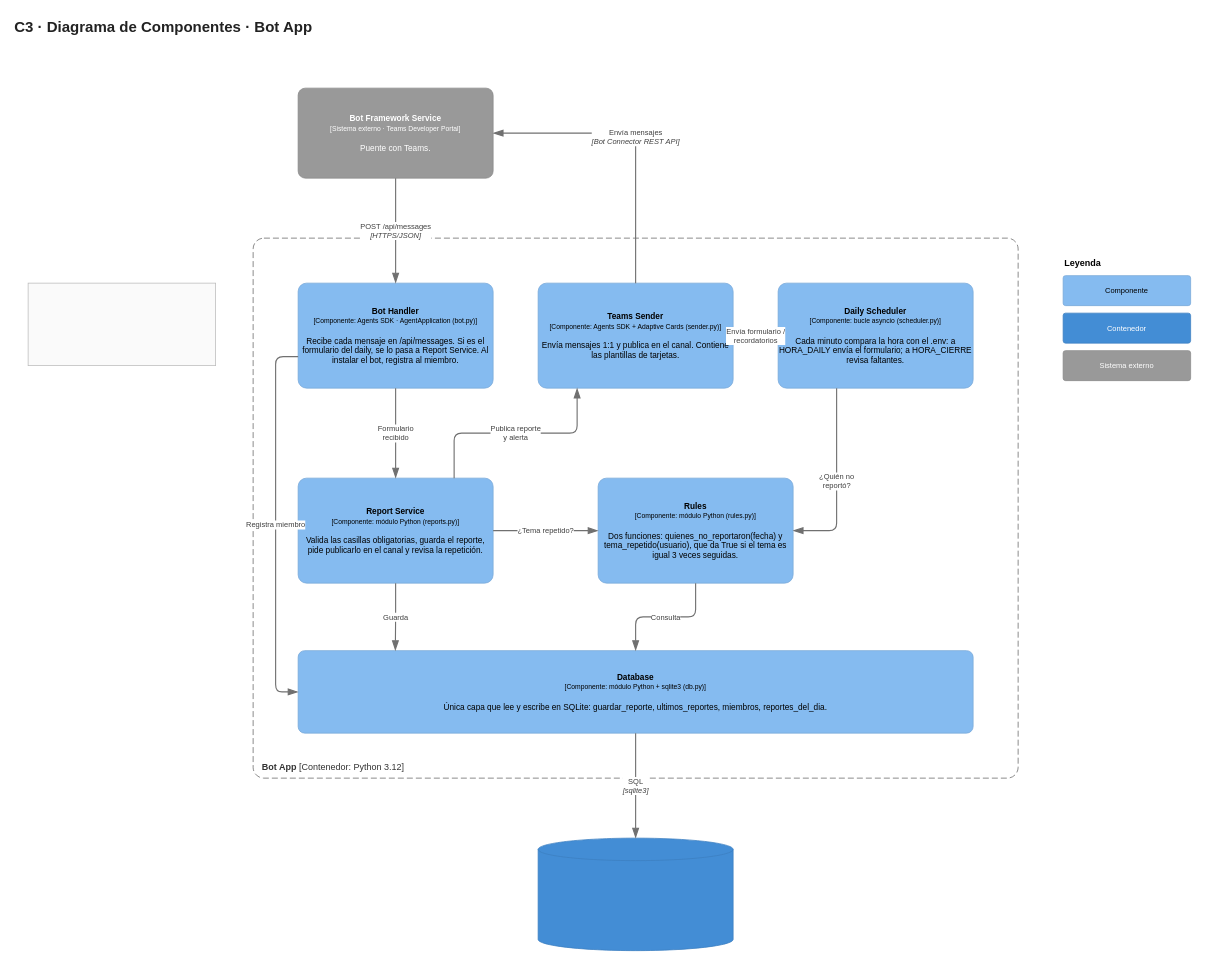
This 1226x964 diagram has some shape labels left out. The centre of each missing label's shape, as x and y in pixels:
".env Lo leen Daily Scheduler (horas) y Teams Sender (credenciales y canal)." belongs at [121,324].
"Base de datos [Contenedor: SQLite] members · reports" belongs at [635,894].
